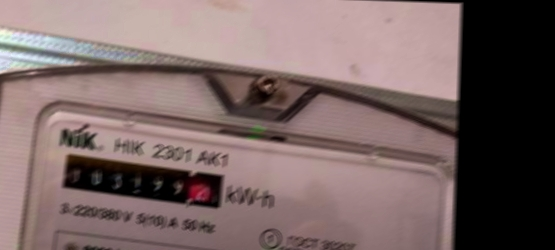0: (66, 161, 80, 181), (89, 163, 101, 183)
1: (131, 166, 141, 185)
3: (110, 168, 120, 187)
6: (193, 185, 203, 201)
9: (171, 175, 182, 193), (151, 170, 161, 189)
screen: (54, 146, 230, 213)
